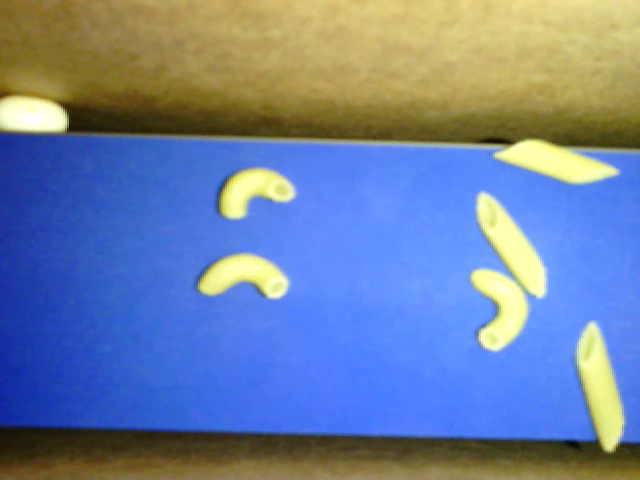elbow: (470, 267, 530, 352), (197, 253, 289, 302), (219, 166, 297, 219)
penne: (476, 190, 545, 297), (576, 320, 624, 453), (493, 138, 618, 185)
